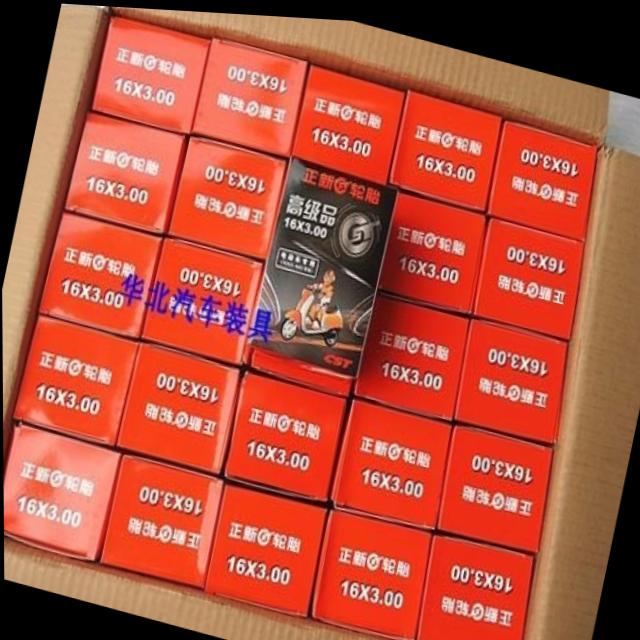box: (236, 153, 395, 391), (112, 338, 243, 473), (9, 315, 139, 448), (218, 367, 346, 501), (308, 503, 433, 636), (98, 454, 223, 587), (204, 480, 327, 614), (328, 393, 452, 525), (3, 423, 120, 561), (163, 133, 291, 258), (62, 107, 186, 235), (139, 232, 262, 361), (38, 212, 162, 335), (436, 417, 553, 545), (353, 289, 469, 418), (90, 13, 211, 133), (453, 311, 566, 437), (291, 58, 406, 180), (472, 208, 585, 332), (414, 525, 535, 640), (386, 87, 501, 206), (192, 35, 306, 155), (376, 186, 487, 309), (487, 115, 598, 235)
